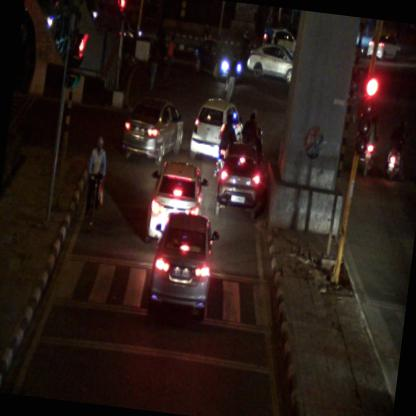car: (142, 211, 222, 327), (142, 160, 209, 249), (120, 96, 186, 167), (188, 95, 245, 168), (212, 140, 250, 220), (190, 37, 244, 84), (245, 41, 295, 86), (368, 32, 400, 62)
motorcycle: (357, 112, 381, 178), (383, 116, 407, 182)
